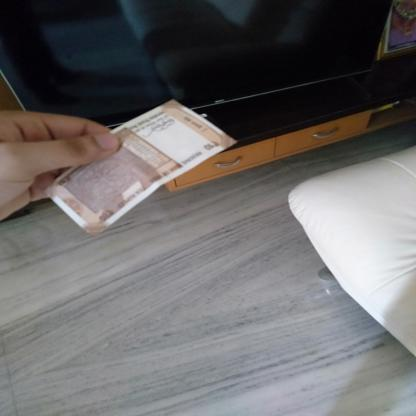New10Back: (46, 107, 225, 208)
